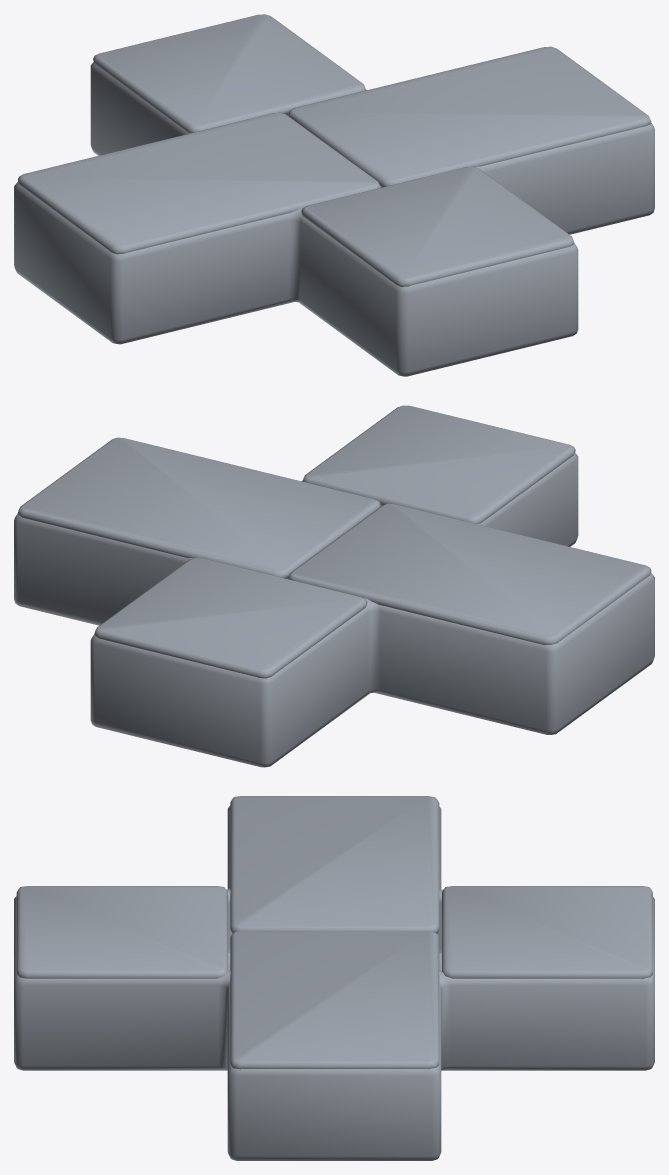
The model's file is Block-X-Gray.fbx.
The picture shows the model from 3 angles, top to bottom: view 1: azimuth 30°, elevation 25°; view 2: azimuth 150°, elevation 25°; view 3: azimuth 270°, elevation 25°; orthographic projection. The views are drawn at different scales.
Parts seen in each view (by area): view 1: Cube.031, Block-X-Gray; view 2: Cube.031, Block-X-Gray; view 3: Cube.031, Block-X-Gray.
Part boxes in pixels (bbox=[...]): Cube.031: bbox=[18, 14, 651, 286]; Block-X-Gray: bbox=[14, 62, 654, 376]; Cube.031: bbox=[18, 405, 651, 678]; Block-X-Gray: bbox=[14, 452, 654, 767]; Cube.031: bbox=[16, 796, 652, 1069]; Block-X-Gray: bbox=[14, 805, 654, 1160].
Size of the model in its own units: 300 by 51.89 by 300.
